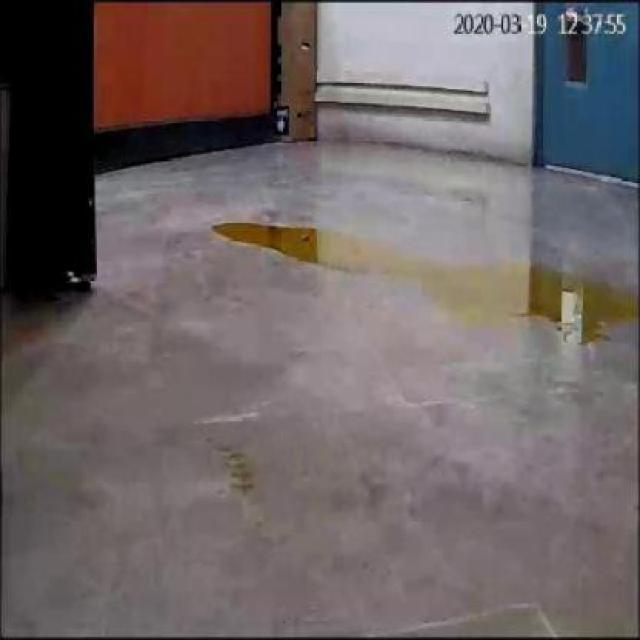spillage: (212, 222, 625, 342)
